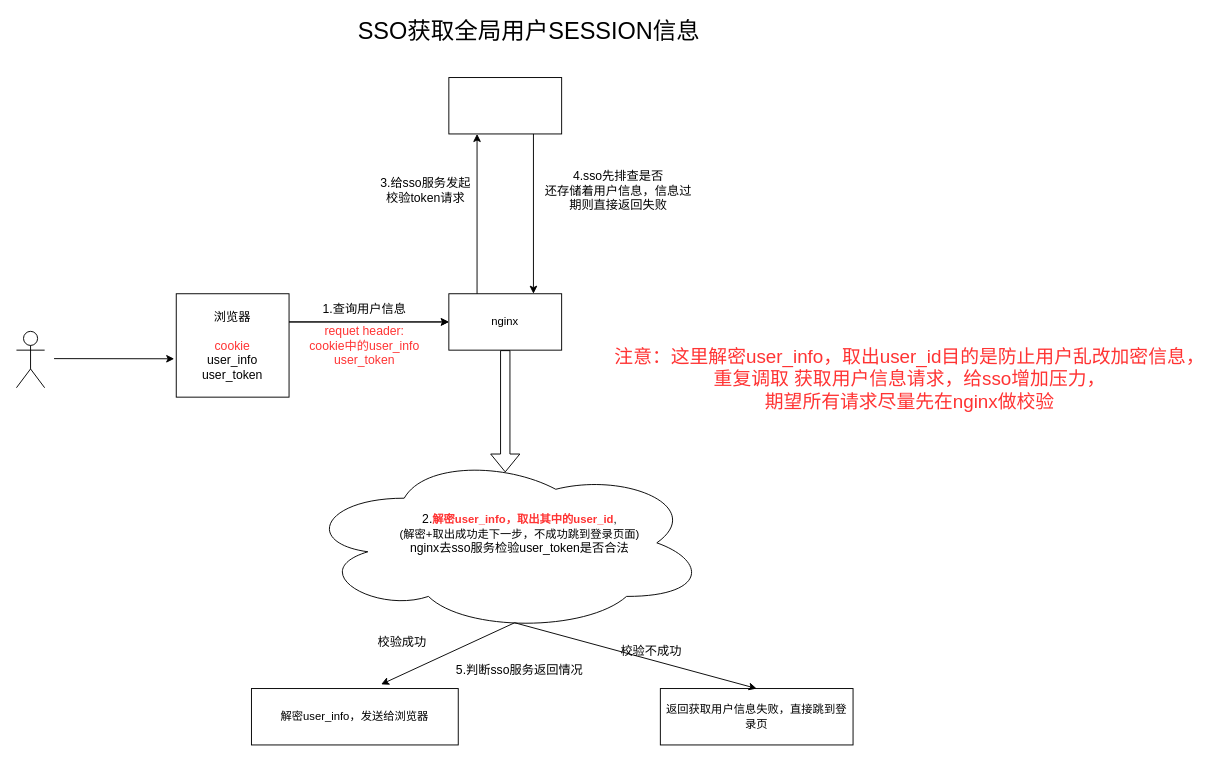
Some shapes in this 1227 by 761 pixel diagram are drawn without their labels. The centre of each missing label's shape, as x and y in pixels:
sso服务 api/sso: the point at 505,105
用户: the point at 30,359
